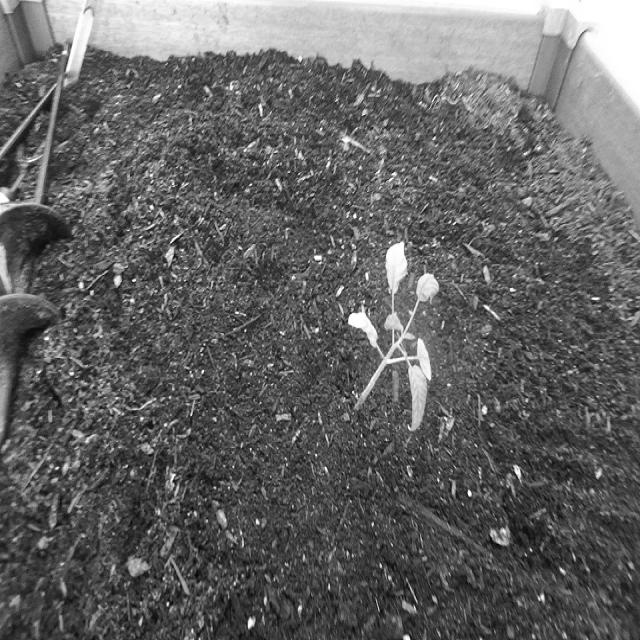Healthy: (343, 238, 442, 437)
